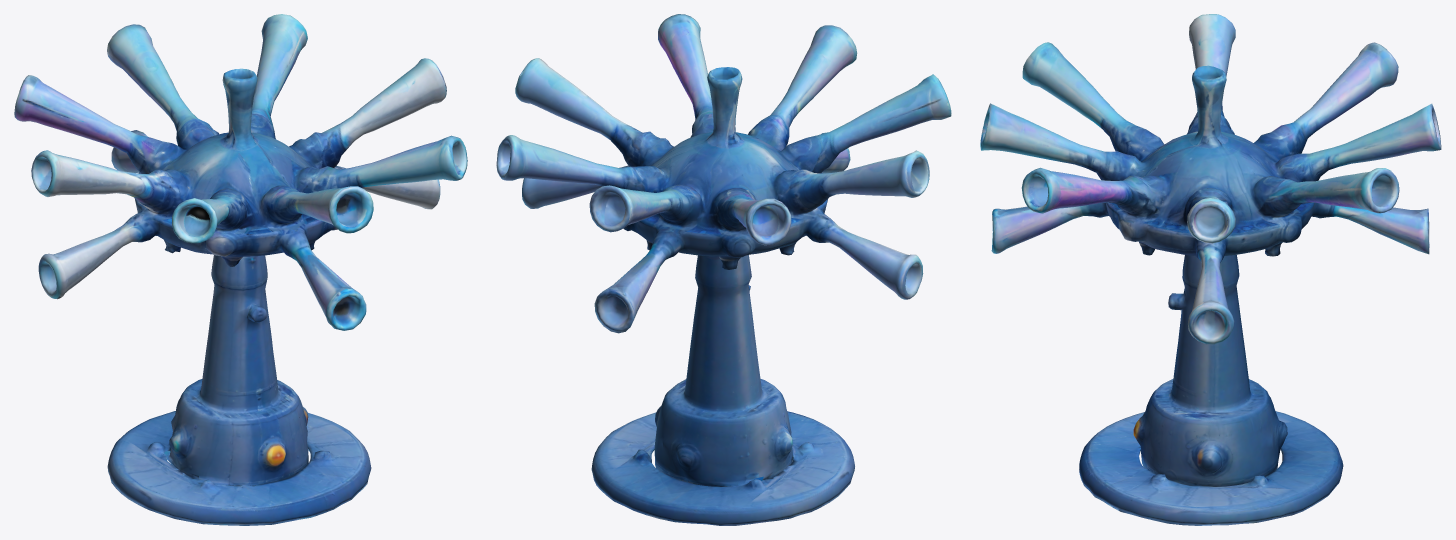
The model's file is 8_direction_bubble_c_0126053604_texture.fbx.
The picture shows the model from 3 angles, left to right: view 1: azimuth 30°, elevation 25°; view 2: azimuth 150°, elevation 25°; view 3: azimuth 270°, elevation 25°; orthographic projection.
Parts seen in each view (by area): view 1: Mesh1_Mesh1.059; view 2: Mesh1_Mesh1.059; view 3: Mesh1_Mesh1.059.
Part boxes in pixels (bbox=[...]): Mesh1_Mesh1.059: bbox=[14, 14, 467, 525]; Mesh1_Mesh1.059: bbox=[496, 14, 951, 525]; Mesh1_Mesh1.059: bbox=[980, 14, 1441, 525].
Size of the model in its own units: 200 by 191 by 199.
1 material, 1 textured.
